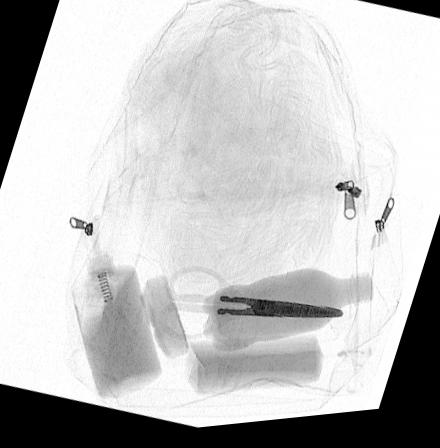Scissors: (156, 271, 346, 346)
